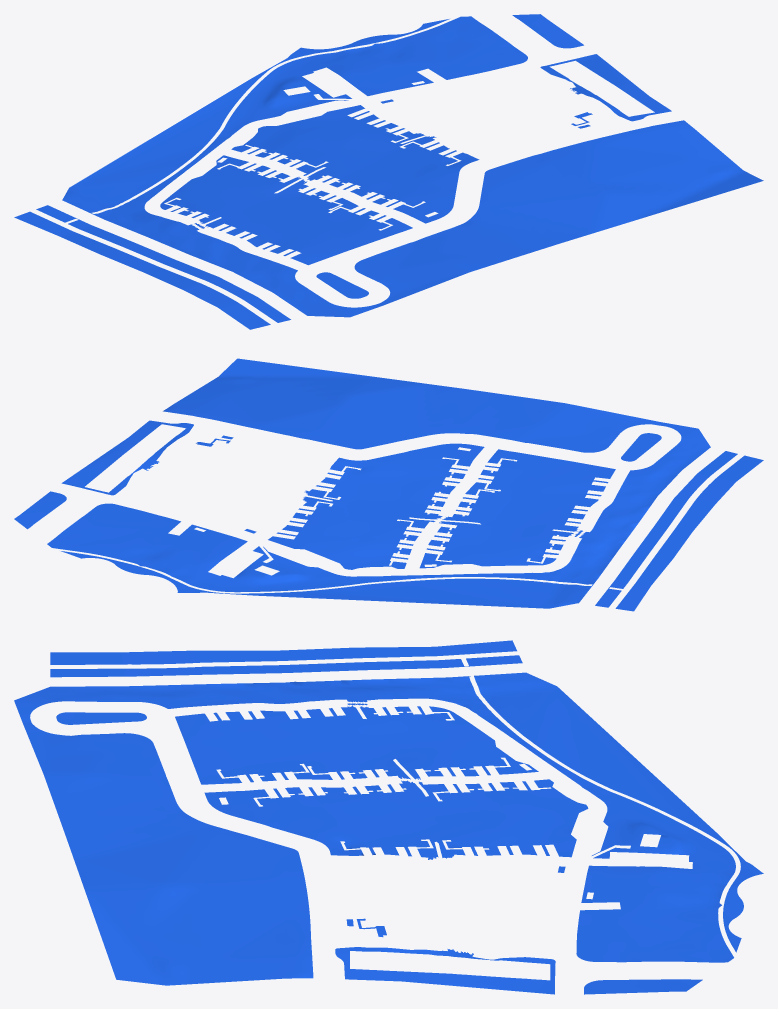
The model's file is Terrain.FBX.
3 renders of one model, top to bottom at view 1: azimuth 30°, elevation 25°; view 2: azimuth 150°, elevation 25°; view 3: azimuth 270°, elevation 25°, orthographic. The views are drawn at different scales.
Parts seen in each view (by area): view 1: Object001; view 2: Object001; view 3: Object001.
Part boxes in pixels (left/top/right/bottom): Object001: left=14, top=14, right=763, bottom=329; Object001: left=14, top=358, right=763, bottom=611; Object001: left=14, top=640, right=763, bottom=994.
Size of the model in its own units: 10441 by 362 by 9203.
